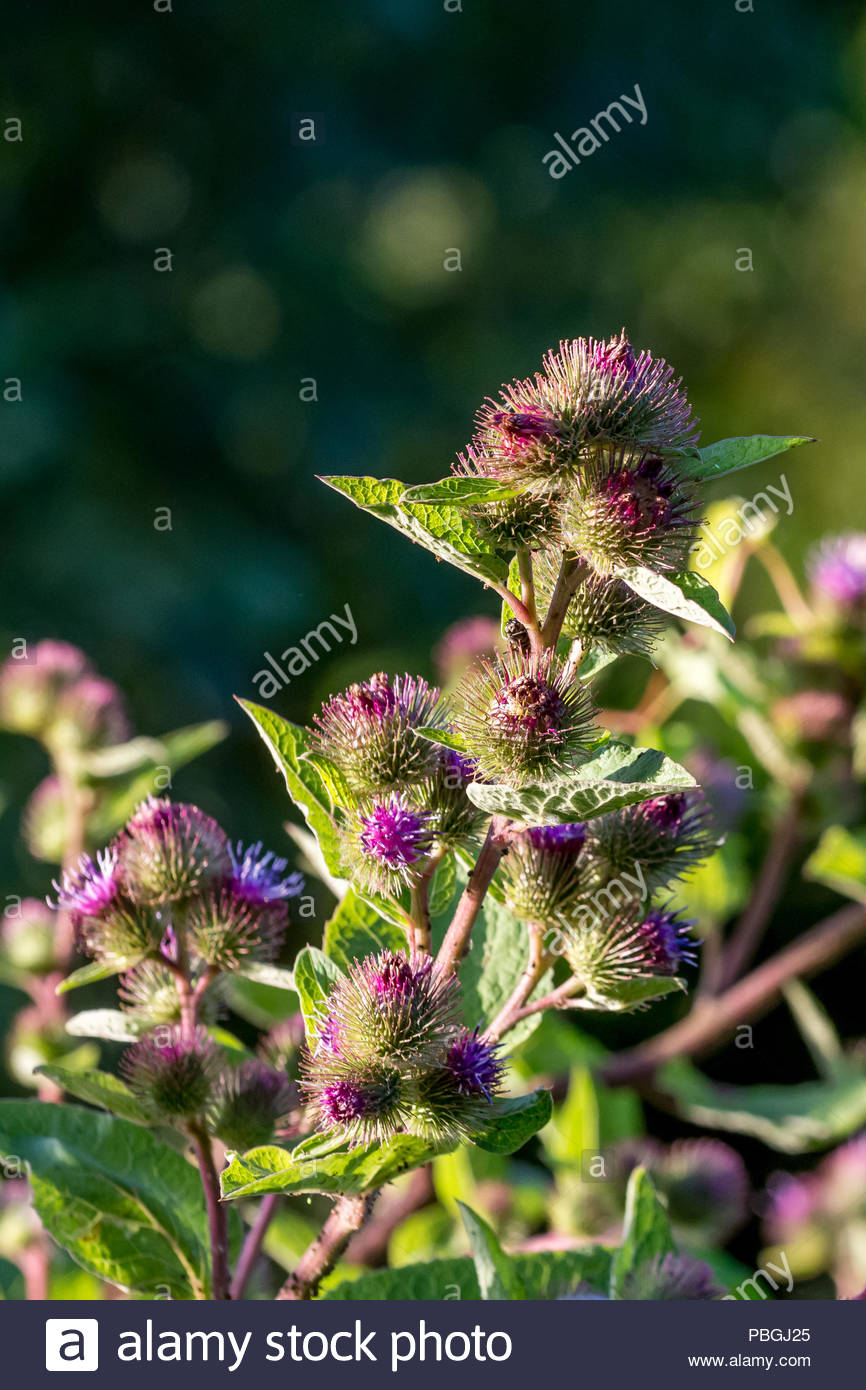thistle: (523, 314, 697, 468), (561, 460, 712, 589), (301, 667, 457, 788), (463, 644, 599, 773), (323, 941, 457, 1049), (81, 802, 224, 901), (496, 812, 606, 923), (337, 797, 430, 888)
